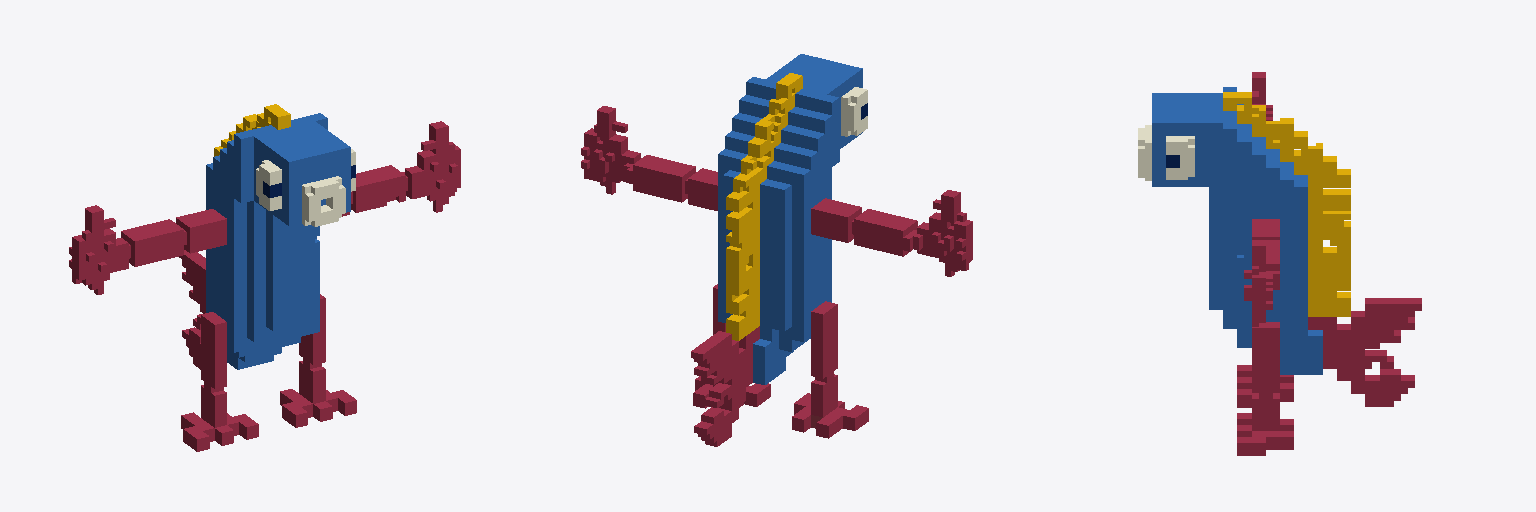
3 views of the same model, side by side, from view 1: azimuth 30°, elevation 25°; view 2: azimuth 150°, elevation 25°; view 3: azimuth 270°, elevation 25° (orthographic).
Visible parts, largest first — view 1: object 1; view 2: object 1; view 3: object 1.
Boxes of the visible parts, box(x1,y1,x2,y2) form: object 1: box(69, 104, 460, 451); object 1: box(581, 54, 972, 446); object 1: box(1138, 72, 1421, 455).
Bounding box in the file's own units: 6.2 × 5 × 4.
1 materials, 1 textured.